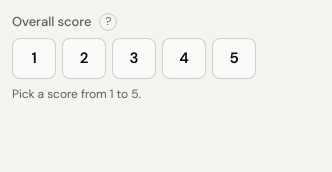
Test: the anchor line › previews on keyboard focus too
Focus the radio button named "1 — Poor" at (34, 59), box [12,38,56,79]
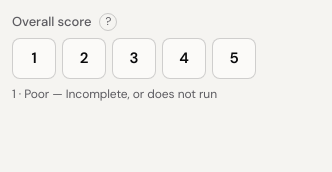
Result: the message reads "1 · Poor — Incomplete, or does not run" at [12,86,217,102]
